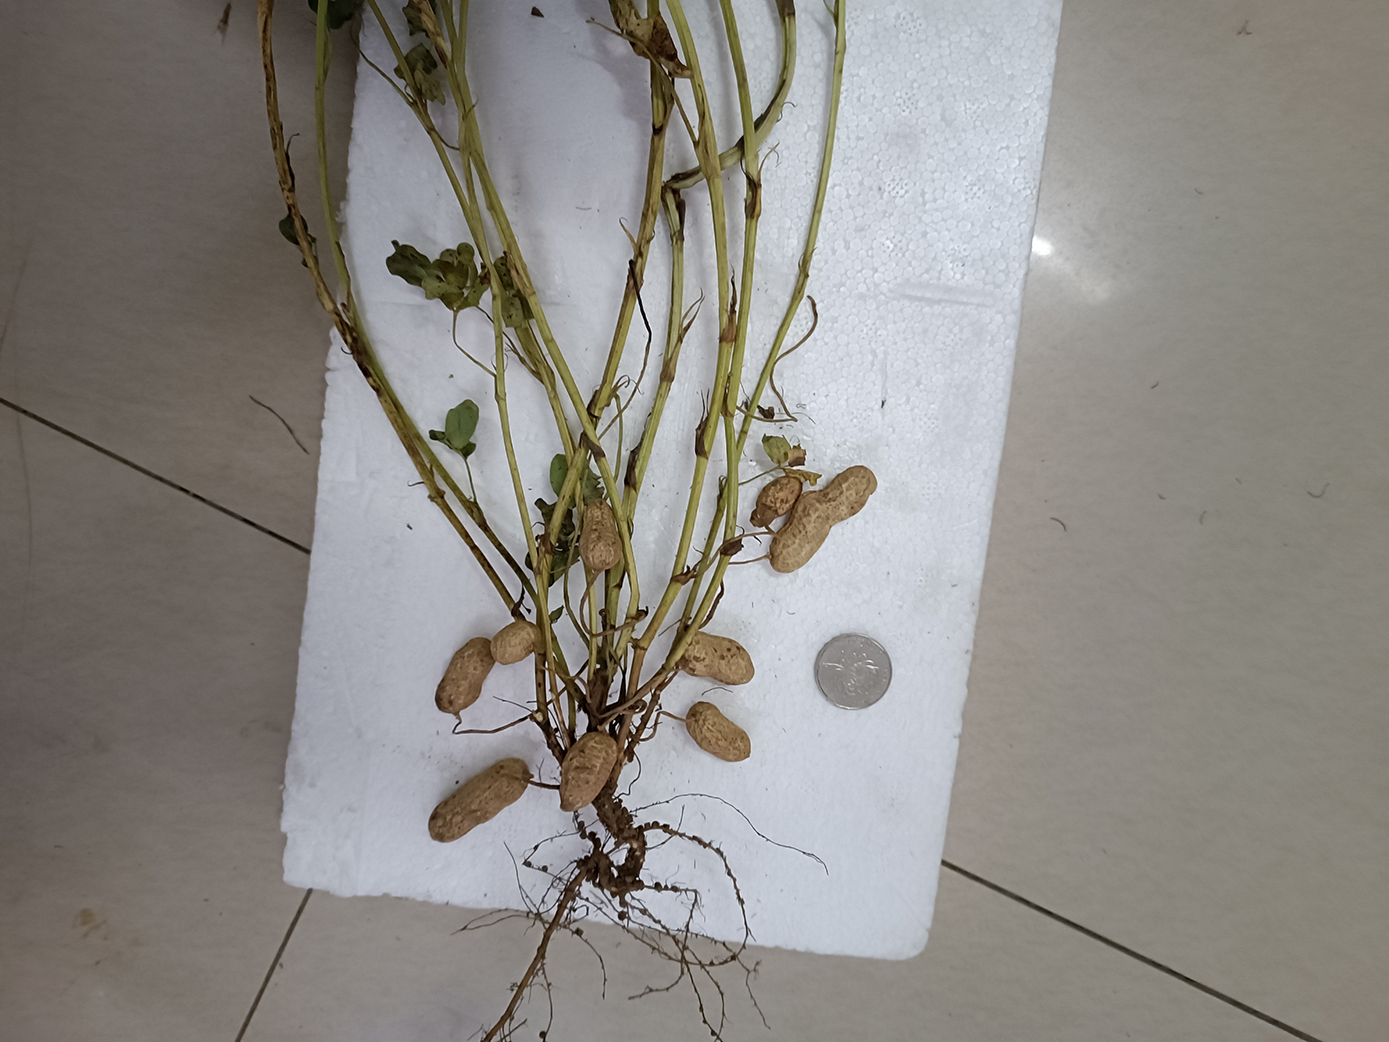h: (769, 466, 877, 574), (428, 756, 530, 842), (558, 730, 620, 813), (435, 637, 495, 713), (683, 701, 751, 762), (680, 632, 754, 685), (580, 497, 621, 571), (491, 620, 542, 665)
l: (749, 475, 803, 525)
